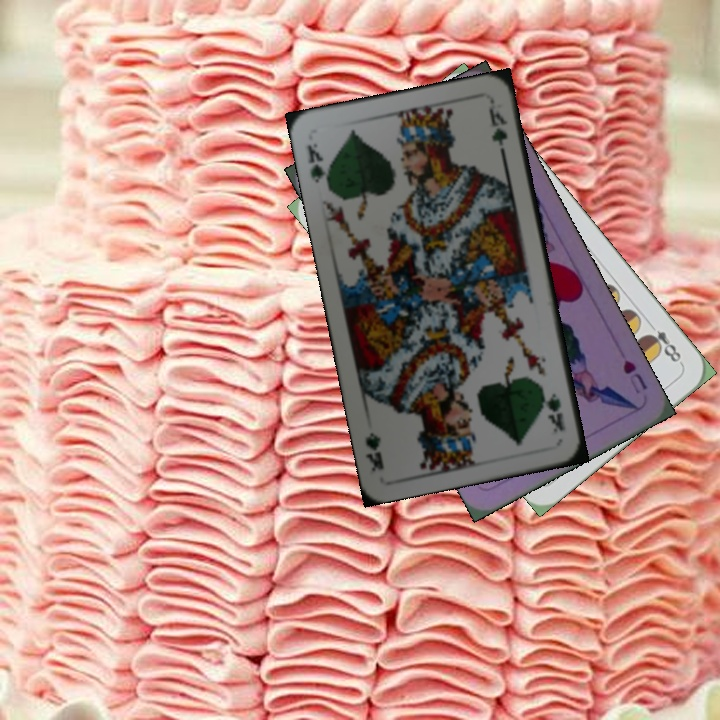E8: (641, 318, 686, 368)
GK: (537, 383, 568, 435), (303, 139, 332, 191)
HU: (618, 355, 650, 397)
